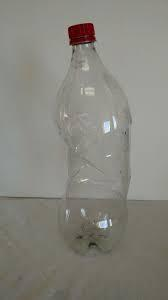Plastic bottle: (54, 18, 138, 252)
